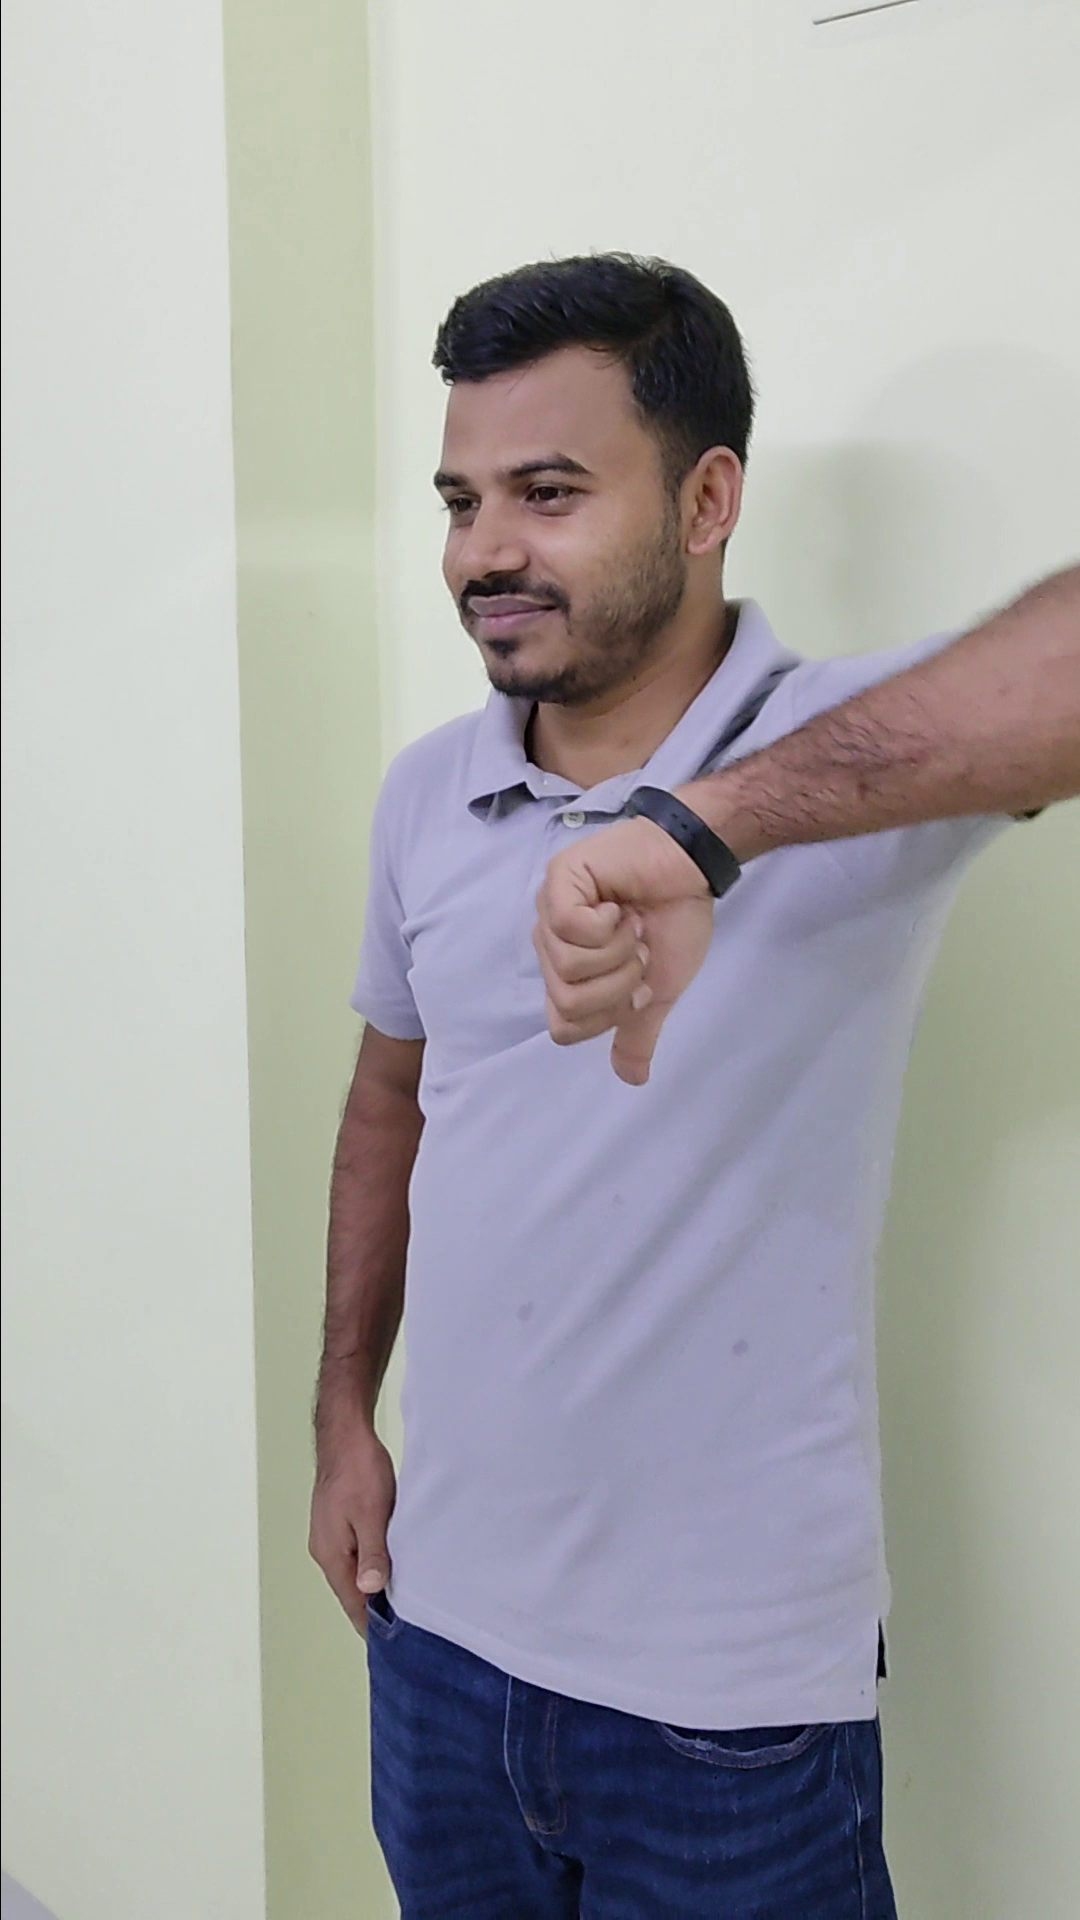Dislike: (516, 777, 748, 1104)
None: (282, 1369, 429, 1662)
